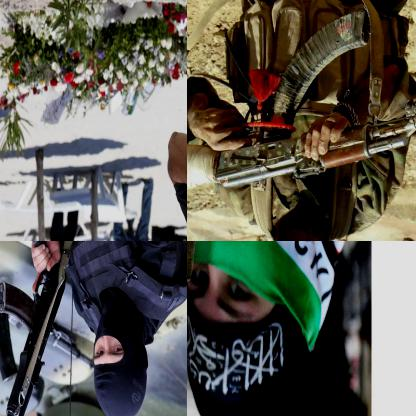rifle: (187, 10, 415, 195), (0, 241, 86, 415), (0, 265, 98, 385)
